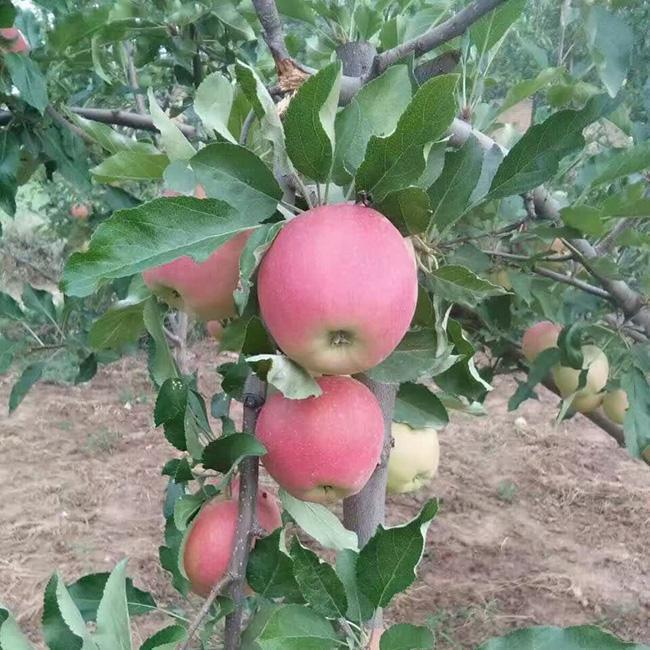apple: (254, 200, 417, 376), (254, 372, 386, 501), (140, 186, 252, 322), (177, 475, 286, 604), (386, 411, 439, 497)
